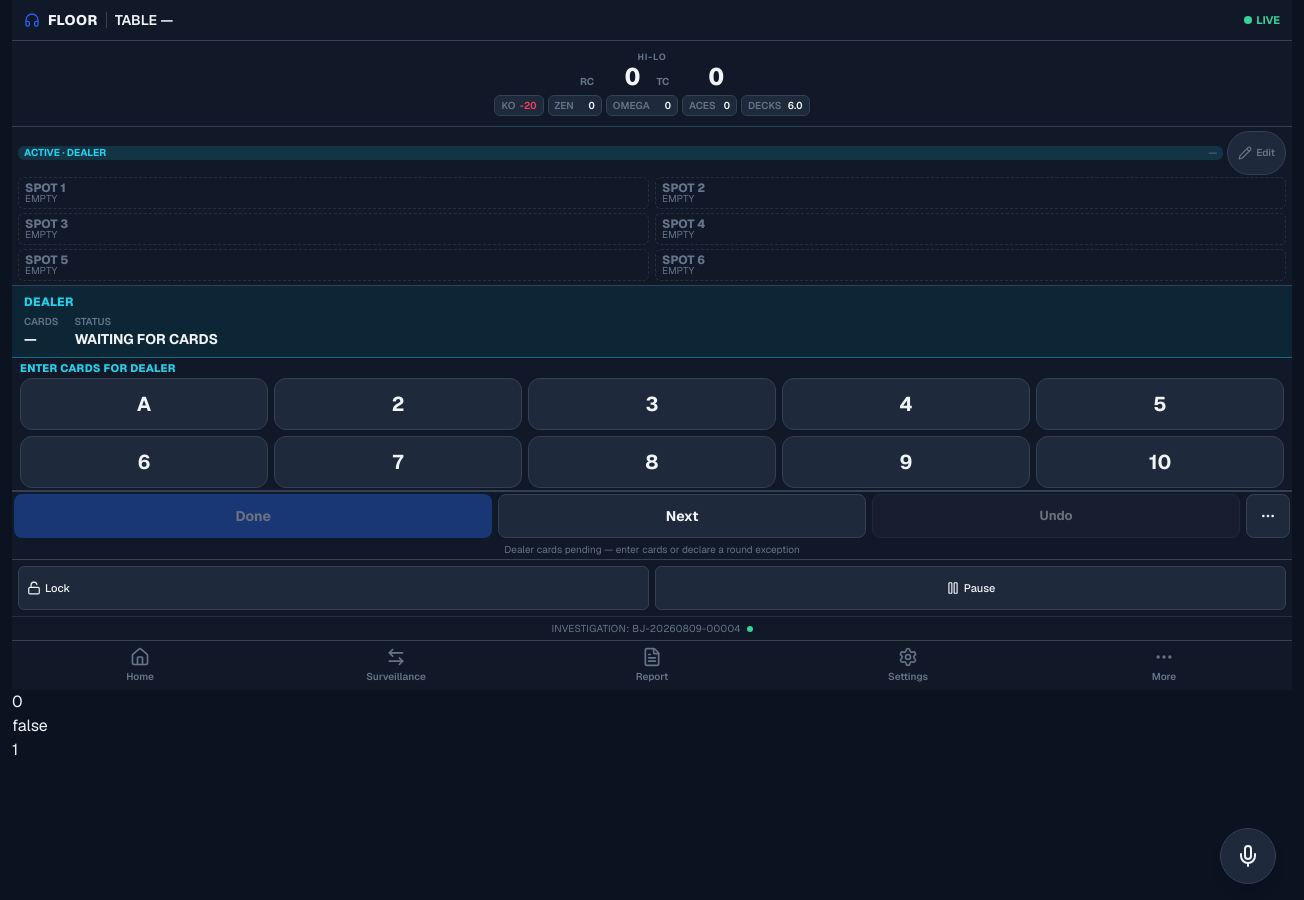
Test: FloorScreen — minimal Floor Mode shell › manual card entry works through the exact same CardEntryPad/ledger LiveScreen uses
Click the button "A" at {"x": 144, "y": 404}, box [20,378,268,430]
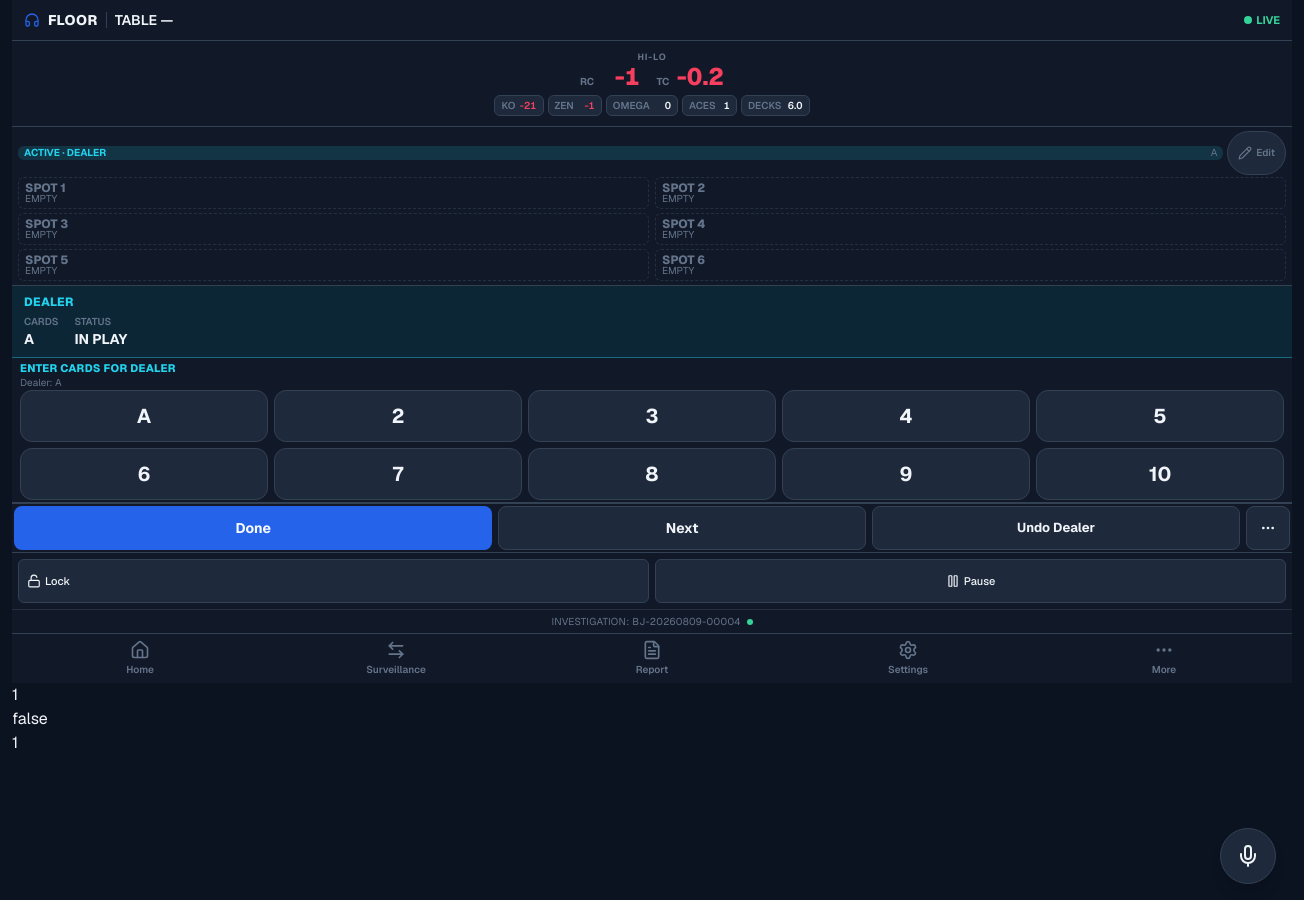
Expected: the text with test id "dealer-card-count" reads "1", [12,684,18,705]
Expected: the text named "HI-LO running count" reads "-1", [615,60,640,92]
